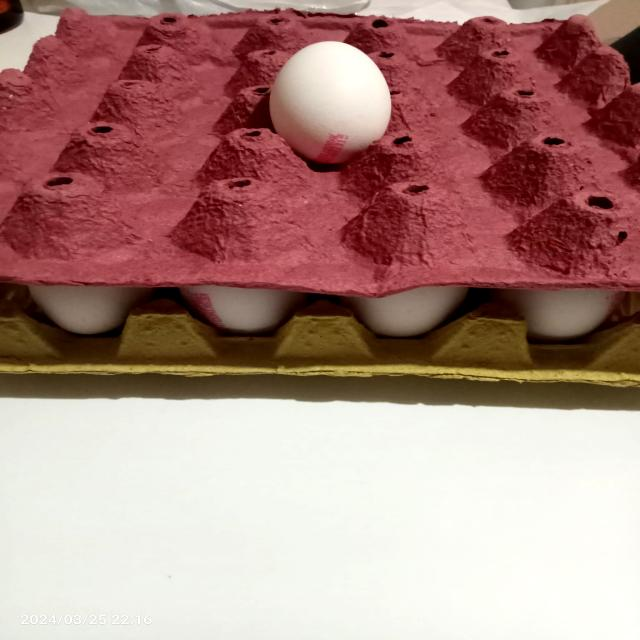egg: (247, 21, 413, 173)
